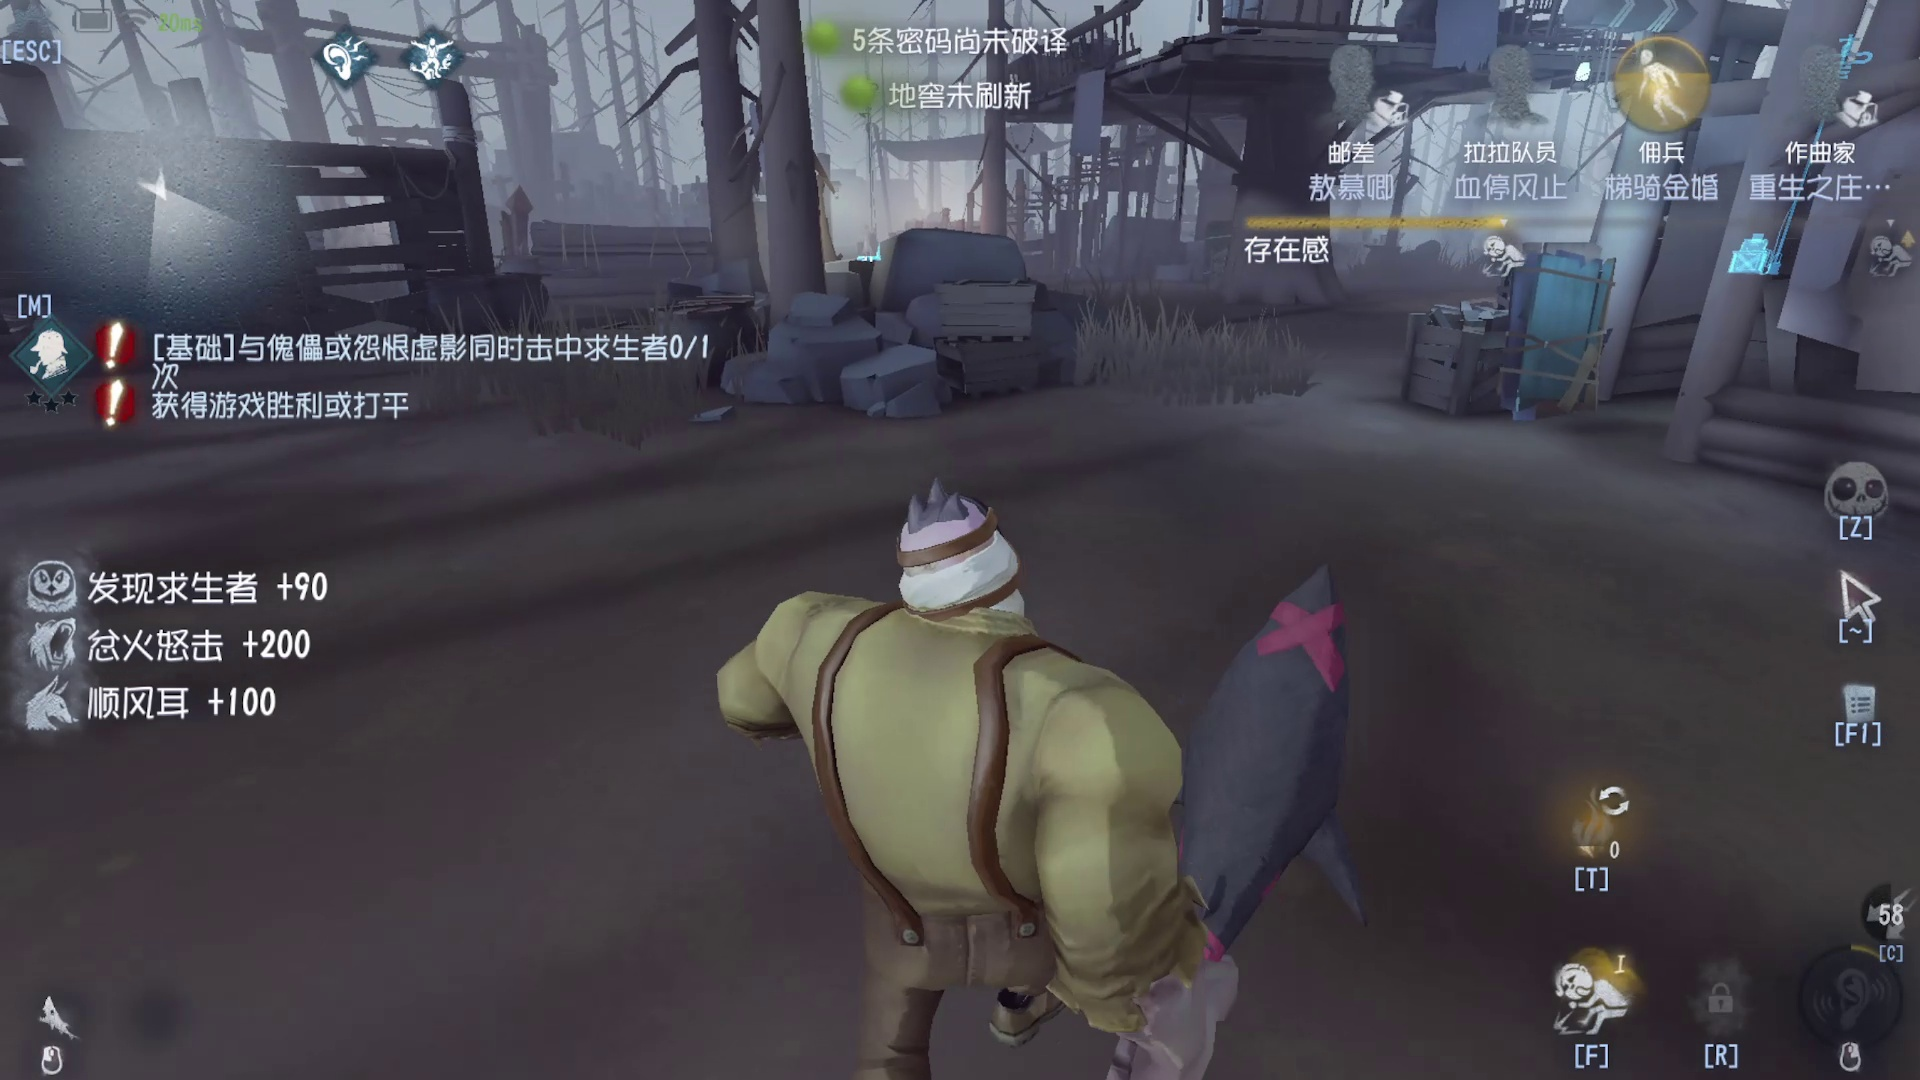密码机: (845, 103, 887, 268)
木板: (1513, 232, 1642, 425)
